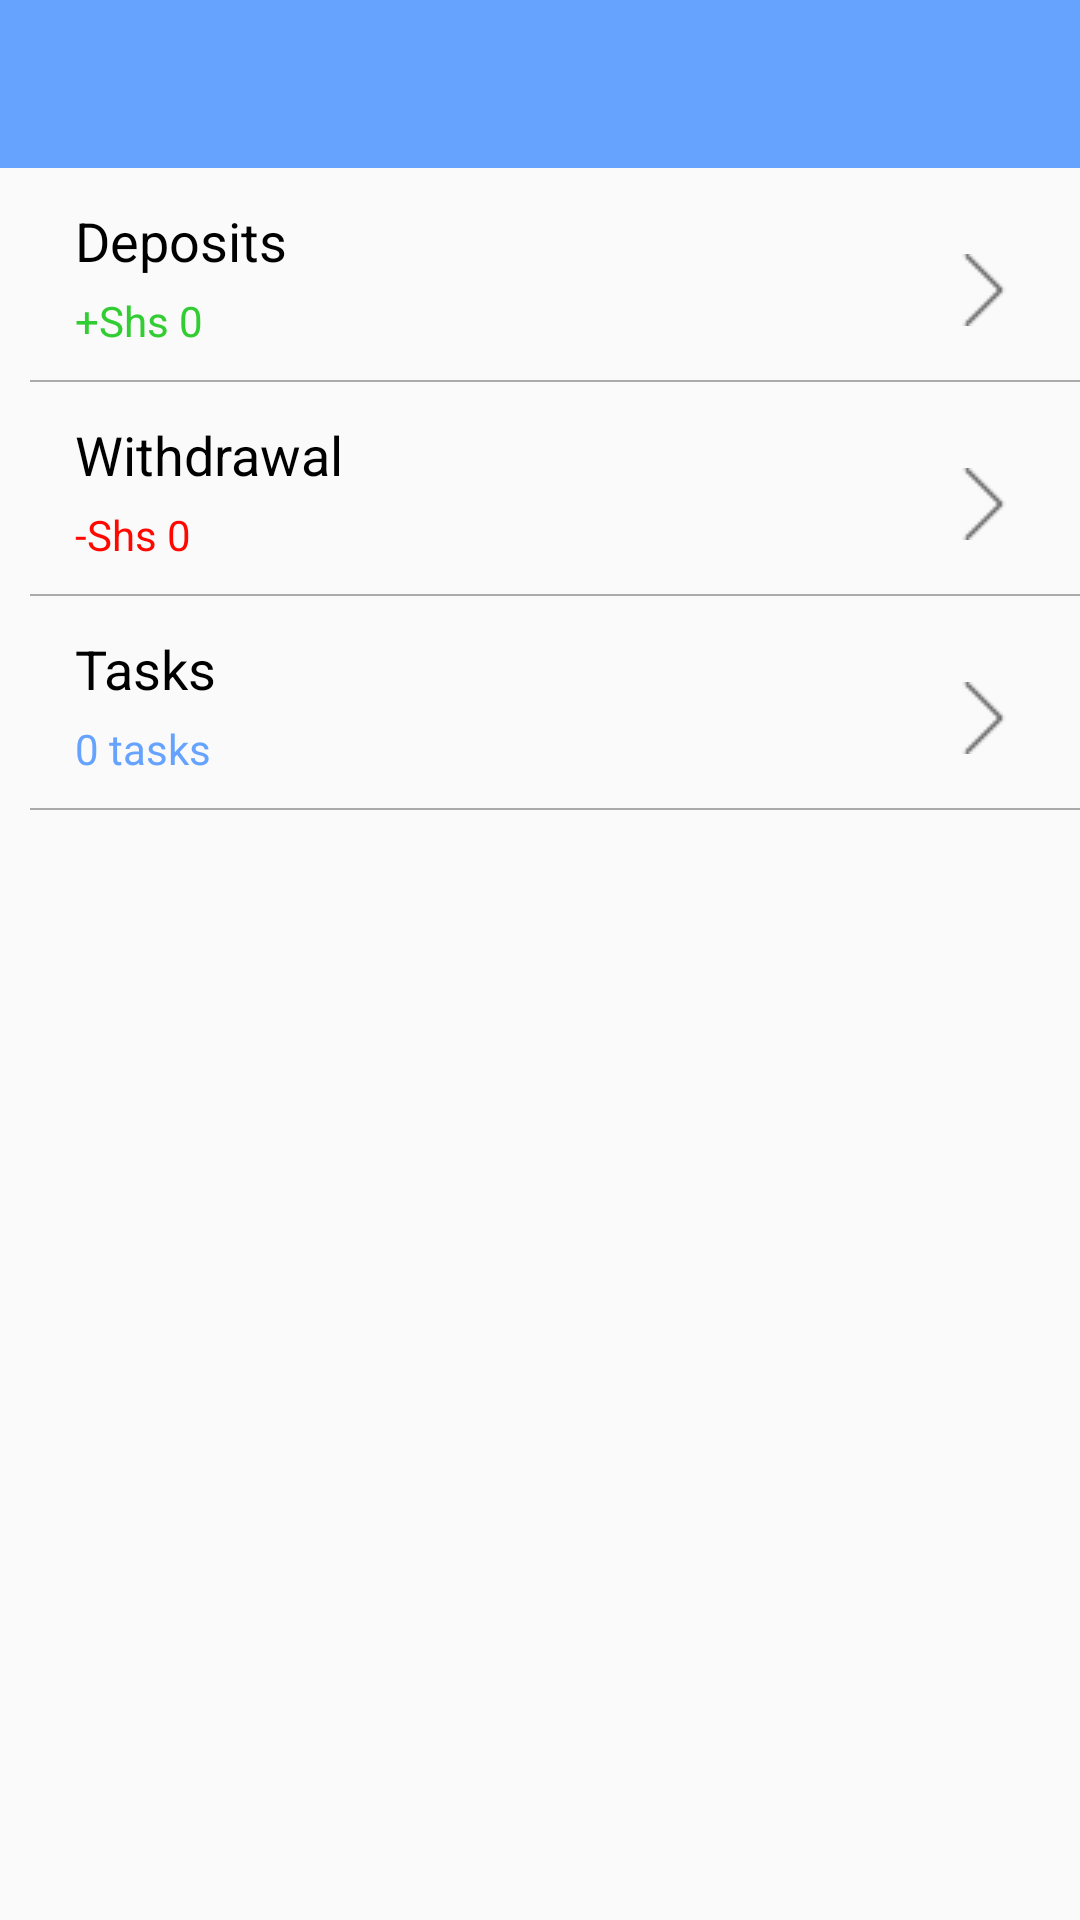

Icon bounding boxes for this 1080x1920 phone screenshot, format (x1, y1, x2, y2):
next: (964, 254, 1003, 326), (964, 468, 1003, 540), (964, 682, 1003, 754)
